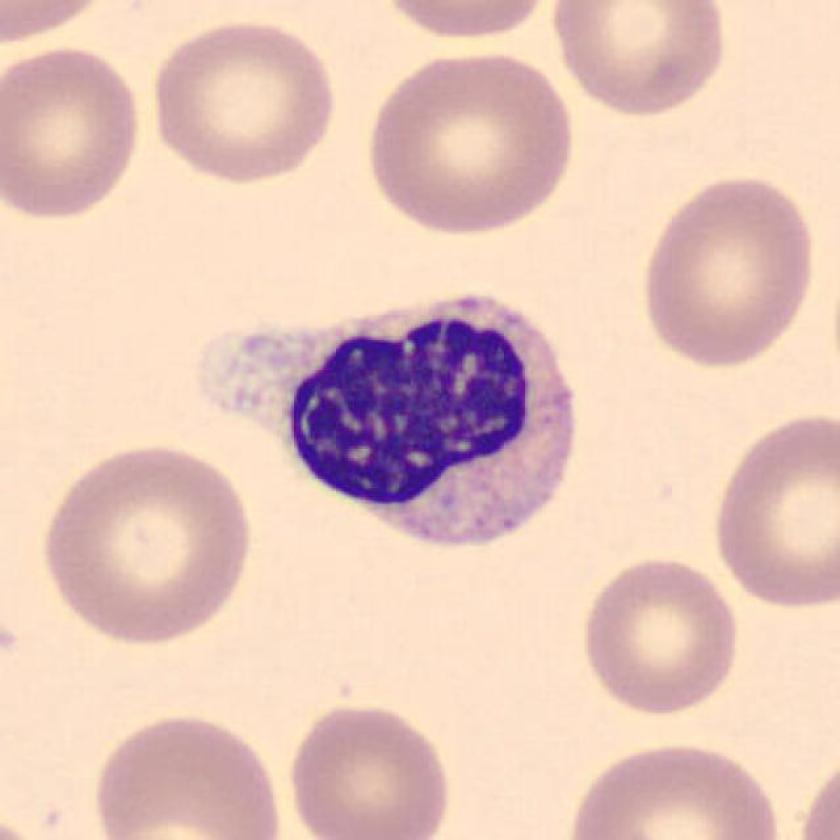neutrophil: (289, 294, 574, 548)
